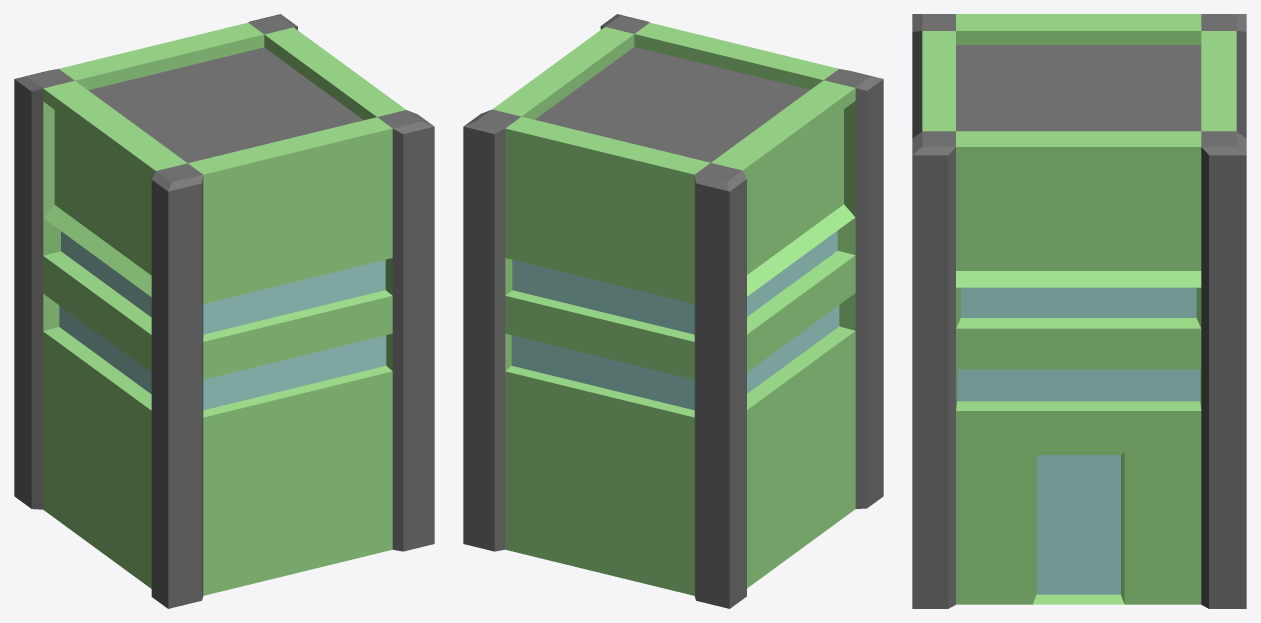
File: HDB2.fbx
3 renders of one model, left to right at view 1: azimuth 30°, elevation 25°; view 2: azimuth 150°, elevation 25°; view 3: azimuth 270°, elevation 25°, orthographic. The views are drawn at different scales.
Visible parts, largest first — view 1: HDB_2; view 2: HDB_2; view 3: HDB_2.
Boxes of the visible parts, x1,y1,x2,y2 form: HDB_2: (14,14,434,608); HDB_2: (463,14,883,608); HDB_2: (912,14,1246,608).
Bounding box in the file's own units: 6.84 × 10.34 × 6.84.
